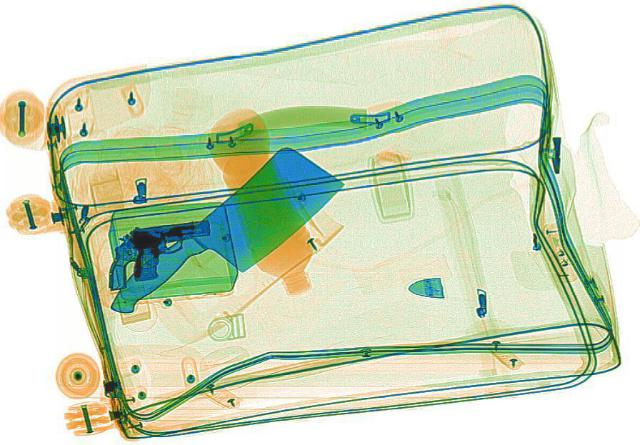Gun: (93, 215, 223, 288), (119, 217, 221, 282)
Knife: (88, 142, 358, 337)
